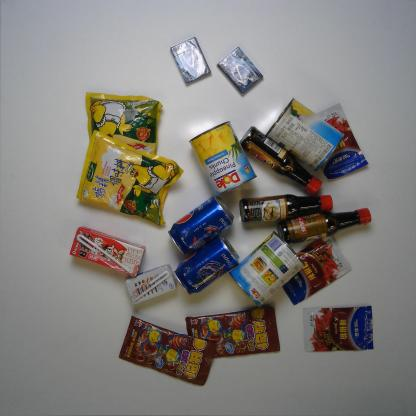Candy: (115, 314, 222, 388), (181, 304, 283, 360)
Canned Food: (261, 95, 347, 173), (227, 229, 307, 309), (189, 119, 261, 198)
Drink: (172, 231, 243, 297), (165, 193, 238, 256)
Gum: (215, 45, 265, 100), (168, 36, 213, 87)
Milk: (67, 223, 148, 280), (123, 260, 179, 310)
Seasoner: (73, 128, 184, 231), (79, 88, 165, 164), (238, 124, 323, 196), (280, 231, 354, 308), (309, 101, 371, 181), (296, 303, 382, 358), (270, 205, 376, 247), (235, 190, 338, 224)
